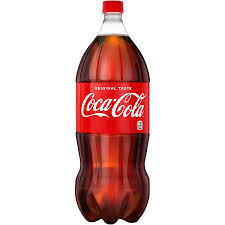HDPE Cap: (102, 1, 123, 13)
PET Bottle: (74, 1, 150, 224)
PVC Label: (75, 82, 150, 133)
